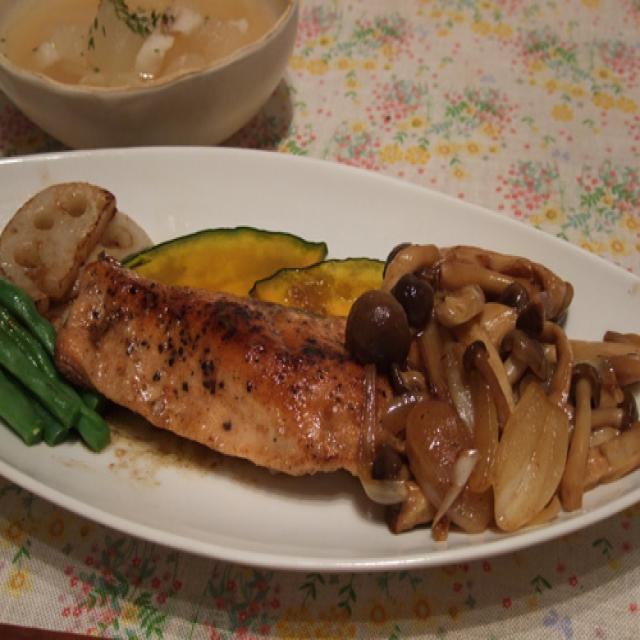熟制海鲜: (39, 239, 640, 524)
